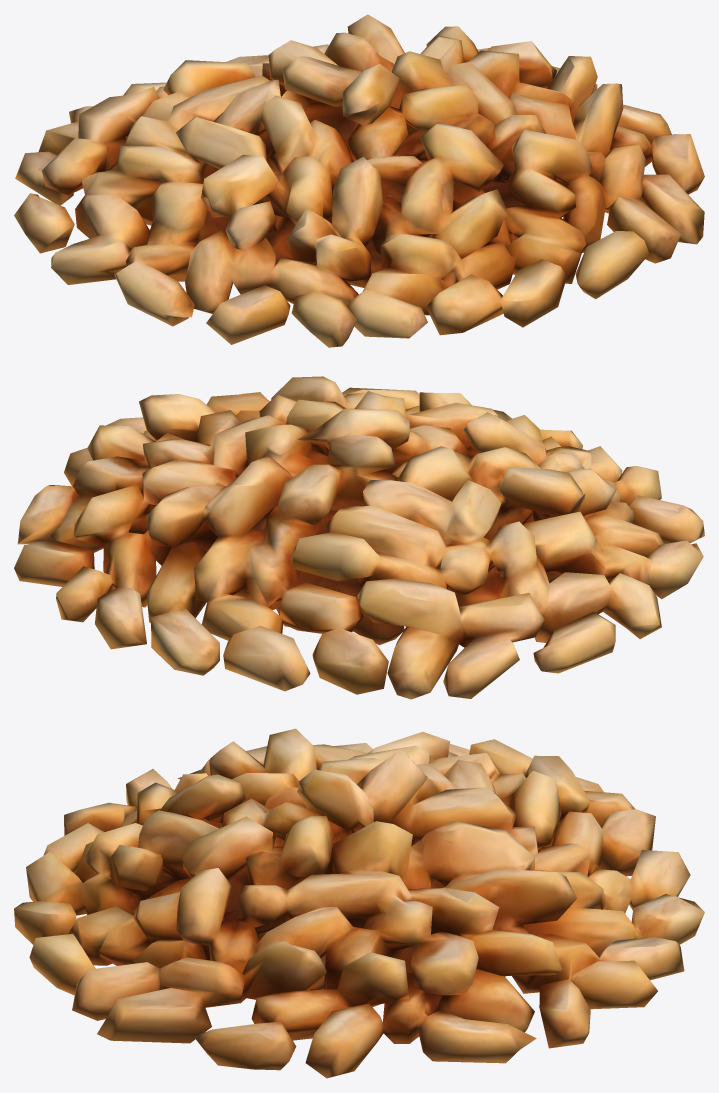
Rendered from canchita.glb.
3 views of the same model, one above another, from view 1: azimuth 30°, elevation 25°; view 2: azimuth 150°, elevation 25°; view 3: azimuth 270°, elevation 25° (orthographic). The views are drawn at different scales.
Parts seen in each view (by area): view 1: tripo_node_13940081-c7c1-4a42-a03b-f420dc8ae536; view 2: tripo_node_13940081-c7c1-4a42-a03b-f420dc8ae536; view 3: tripo_node_13940081-c7c1-4a42-a03b-f420dc8ae536.
Boxes of the visible parts, bbox=[...] form: tripo_node_13940081-c7c1-4a42-a03b-f420dc8ae536: bbox=[14, 14, 704, 347]; tripo_node_13940081-c7c1-4a42-a03b-f420dc8ae536: bbox=[14, 376, 704, 699]; tripo_node_13940081-c7c1-4a42-a03b-f420dc8ae536: bbox=[14, 728, 704, 1078].
Bounding box in the file's own units: 1 × 0.2334 × 0.9323.
1 material, 1 textured.
